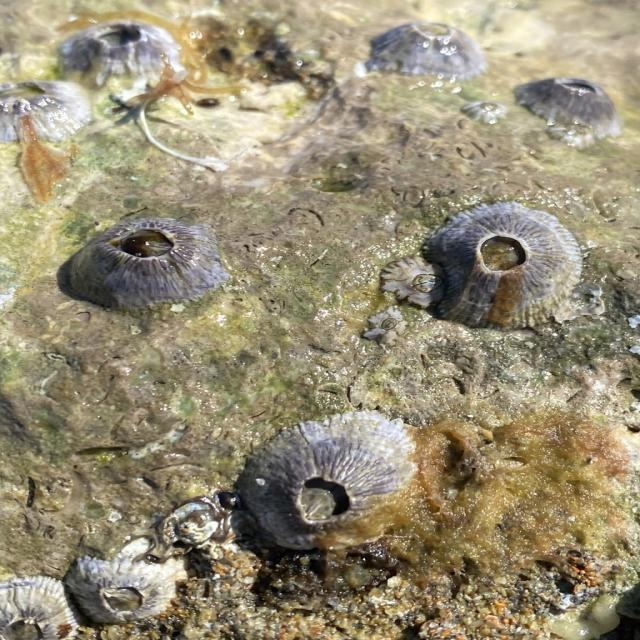barnacles: (262, 414, 419, 566), (440, 199, 594, 335), (54, 208, 252, 310), (358, 12, 492, 86), (58, 18, 184, 88), (509, 67, 615, 137), (74, 548, 173, 622), (0, 563, 72, 640)
